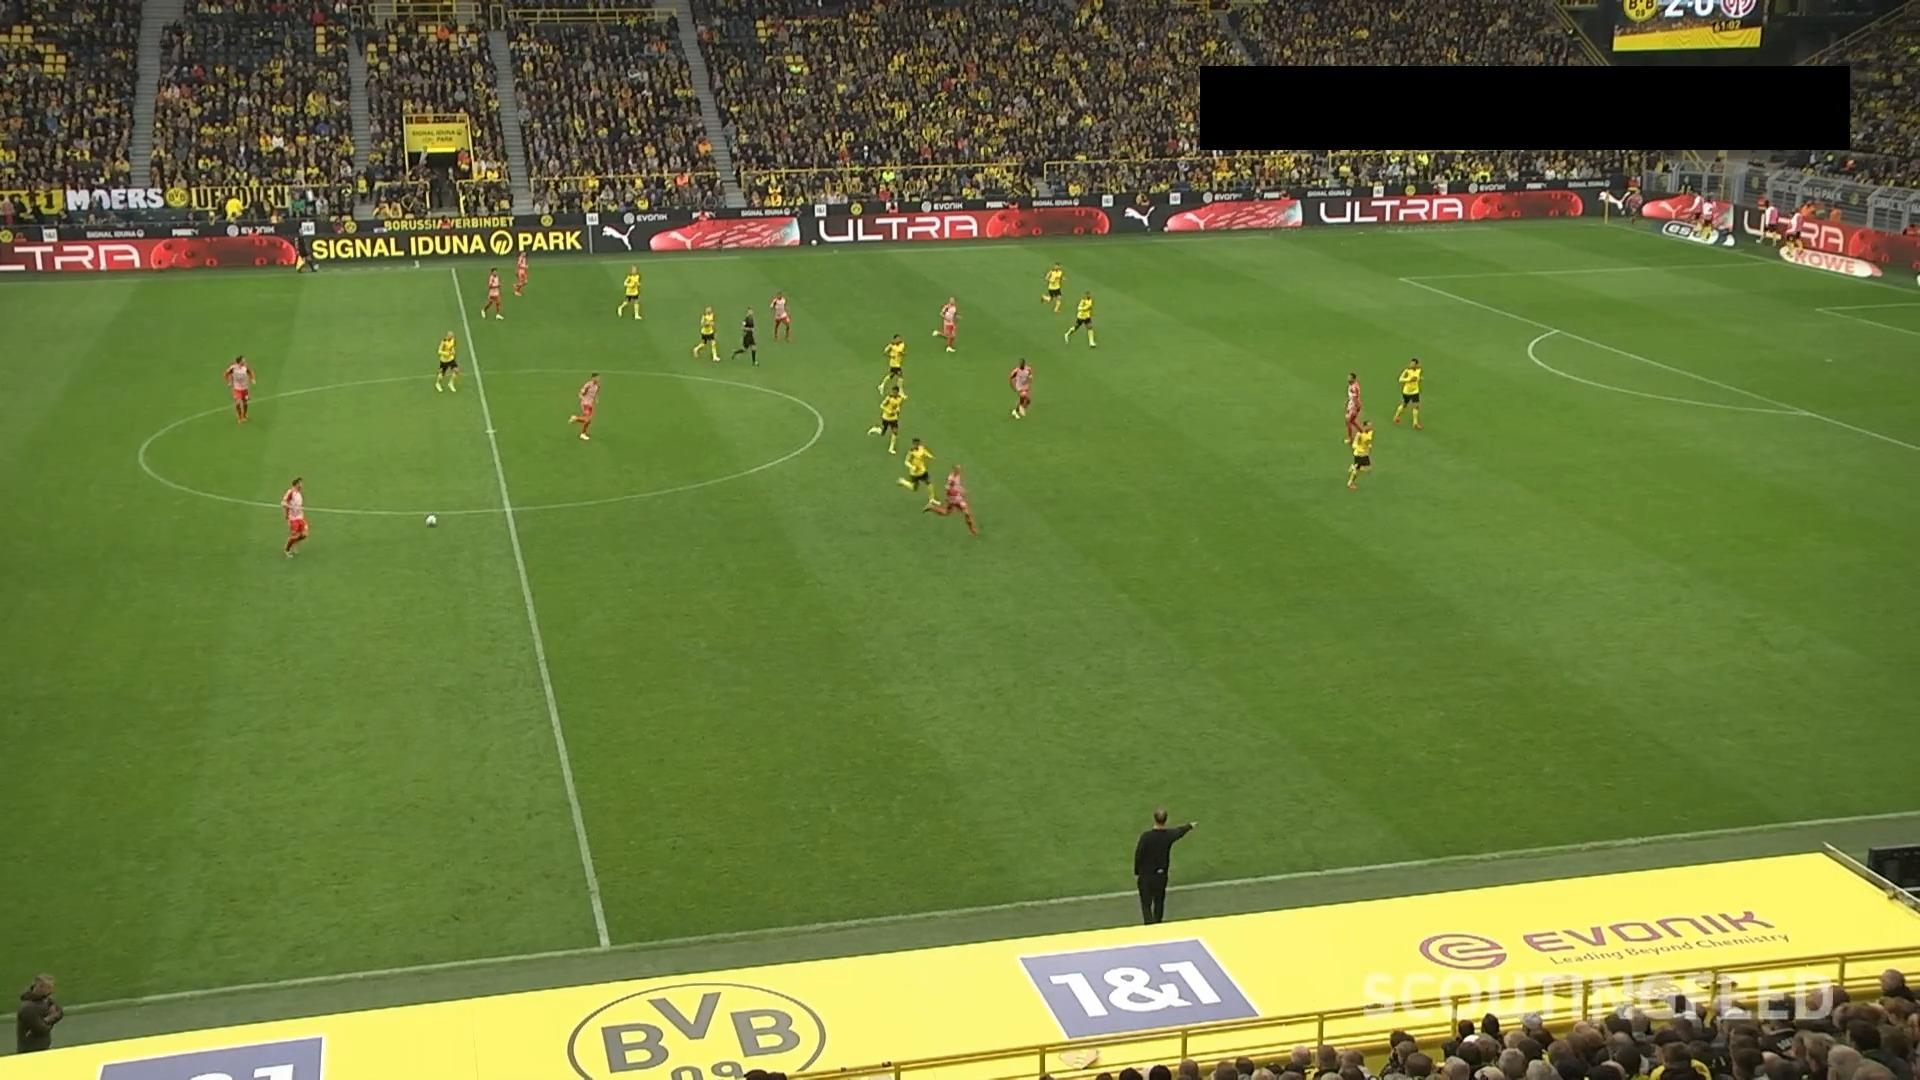ball: (425, 513, 439, 529)
